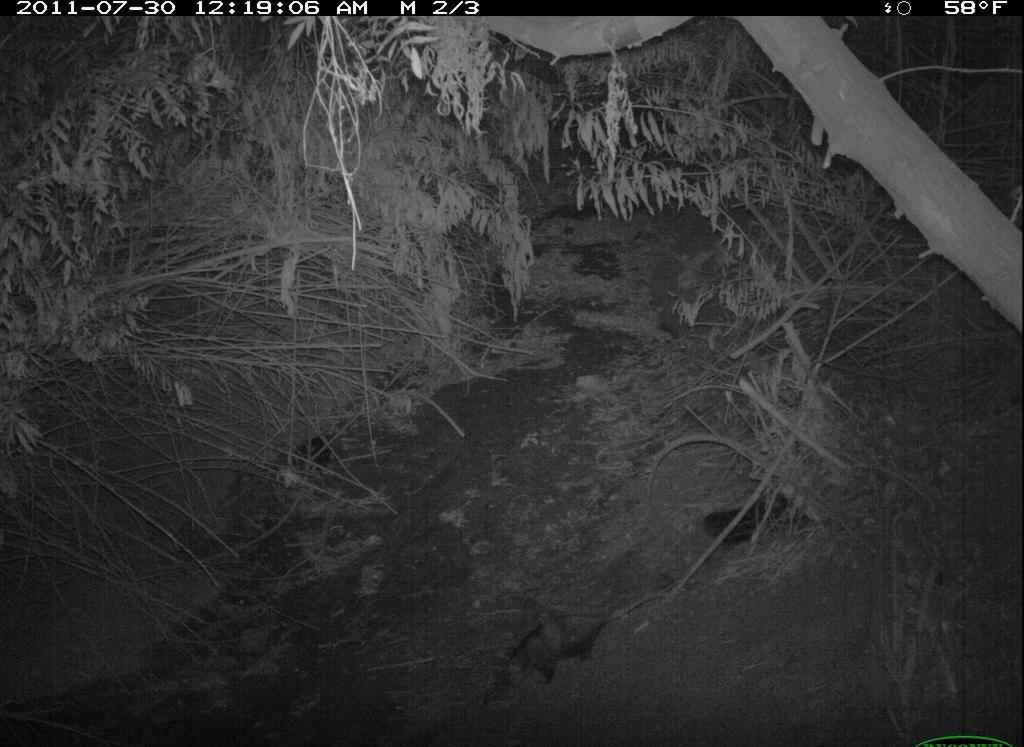opossum: (489, 585, 687, 692)
